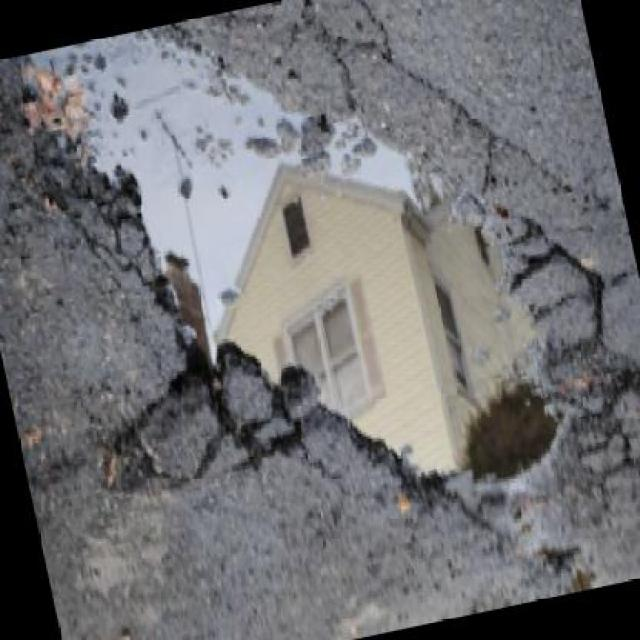pothole: (14, 2, 638, 603)
